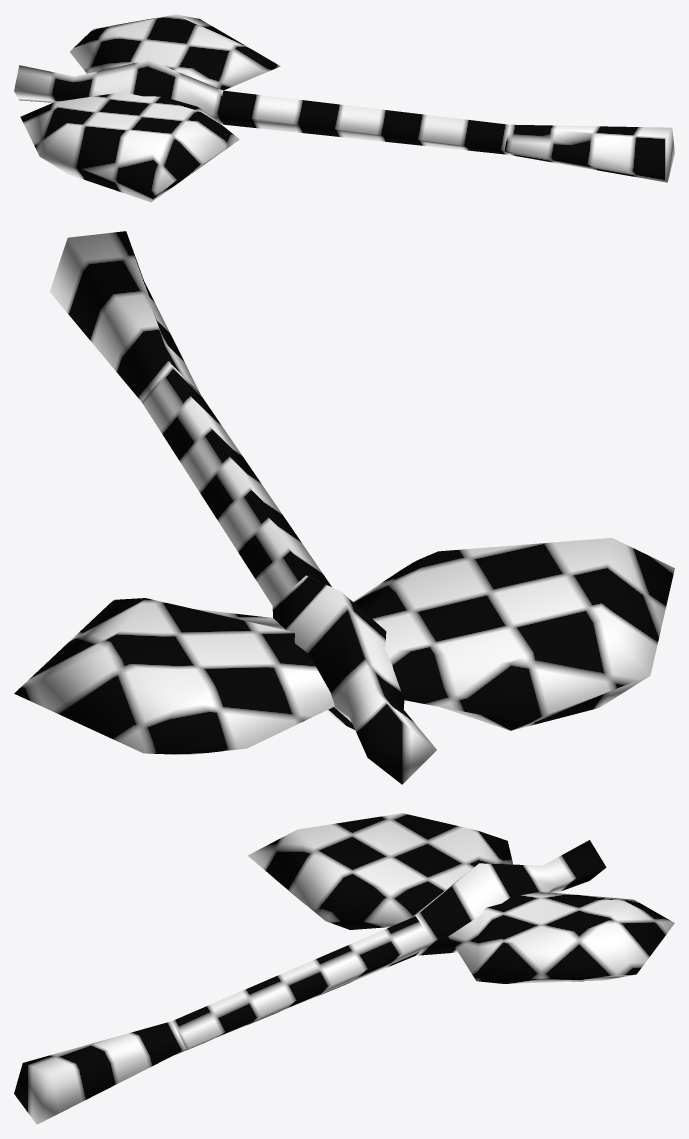
The model's file is initweax2.dae.
3 views of the same model, one above another, from view 1: azimuth 30°, elevation 25°; view 2: azimuth 150°, elevation 25°; view 3: azimuth 270°, elevation 25° (orthographic). The views are drawn at different scales.
Visible parts, largest first — view 1: weapon; view 2: weapon; view 3: weapon.
Boxes of the visible parts, x1,y1,x2,y2 form: weapon: [14, 14, 674, 202]; weapon: [14, 231, 674, 784]; weapon: [14, 813, 674, 1124].
Size of the model in its own units: 2.14 by 2.15 by 0.3139.
1 material, 1 textured.
